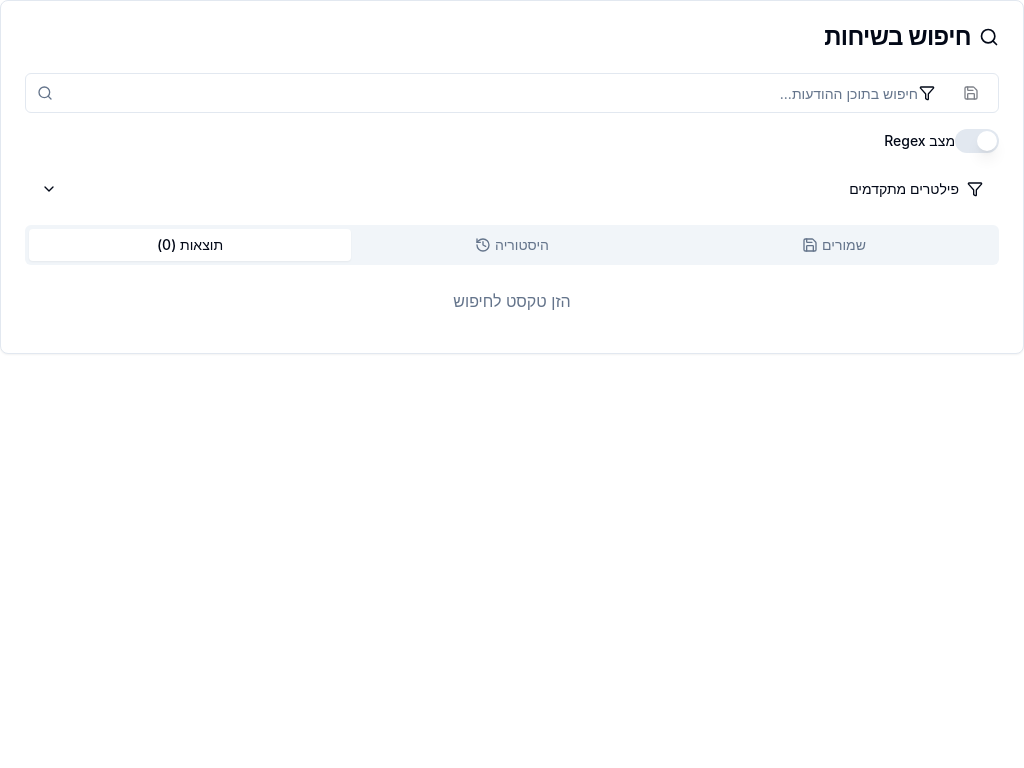
Test: SearchPanel › supports regex search mode
# Enable regex mode
Click the switch.
click(977, 141)  # box x1=955 y1=129 x2=999 y2=153
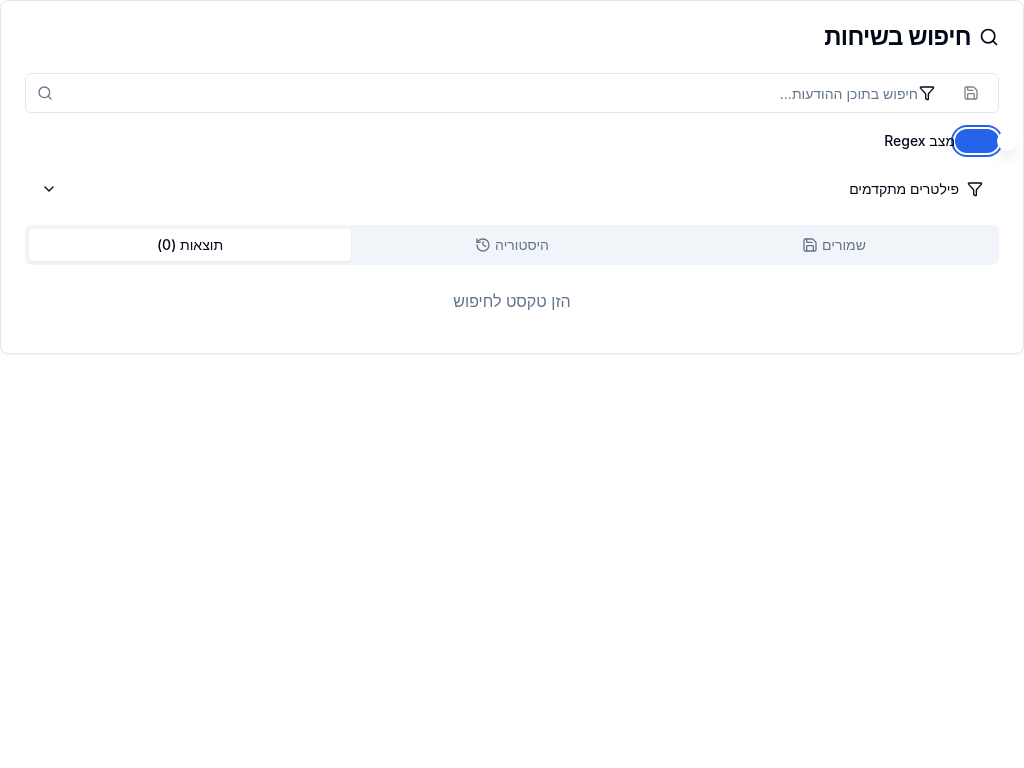
# Search with regex pattern
Type "React|Python" into the field with placeholder "חיפוש בתוכן ההודעות...".
click(512, 93); type("React|Python")  # box x1=25 y1=73 x2=999 y2=113
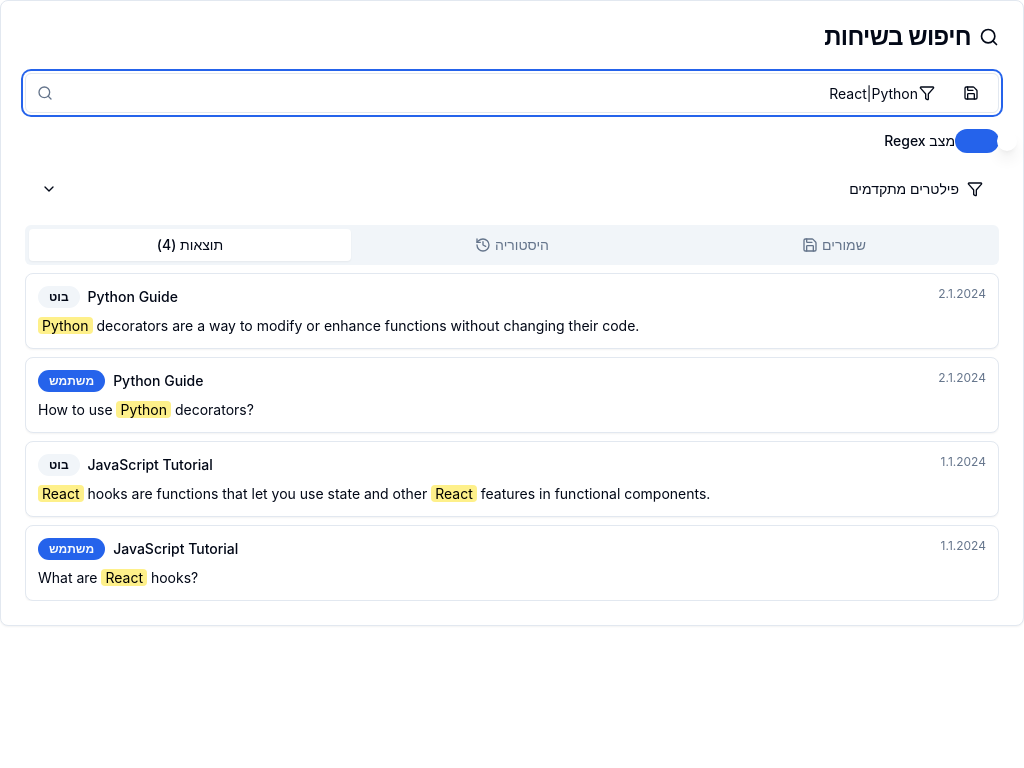
Now the tab "תוצאות (4)" is shown, box x1=29 y1=229 x2=351 y2=261
